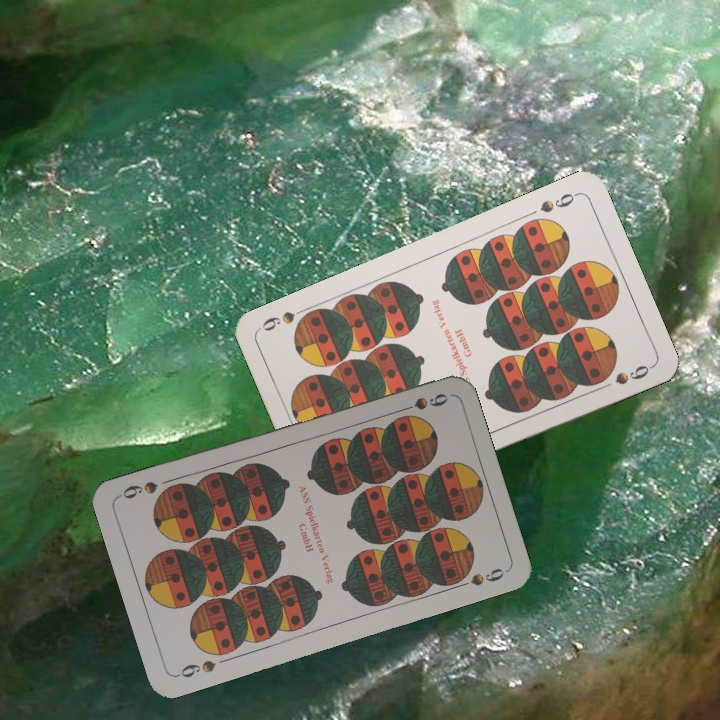S9: (393, 389, 451, 416), (536, 188, 581, 216), (172, 656, 219, 680)
